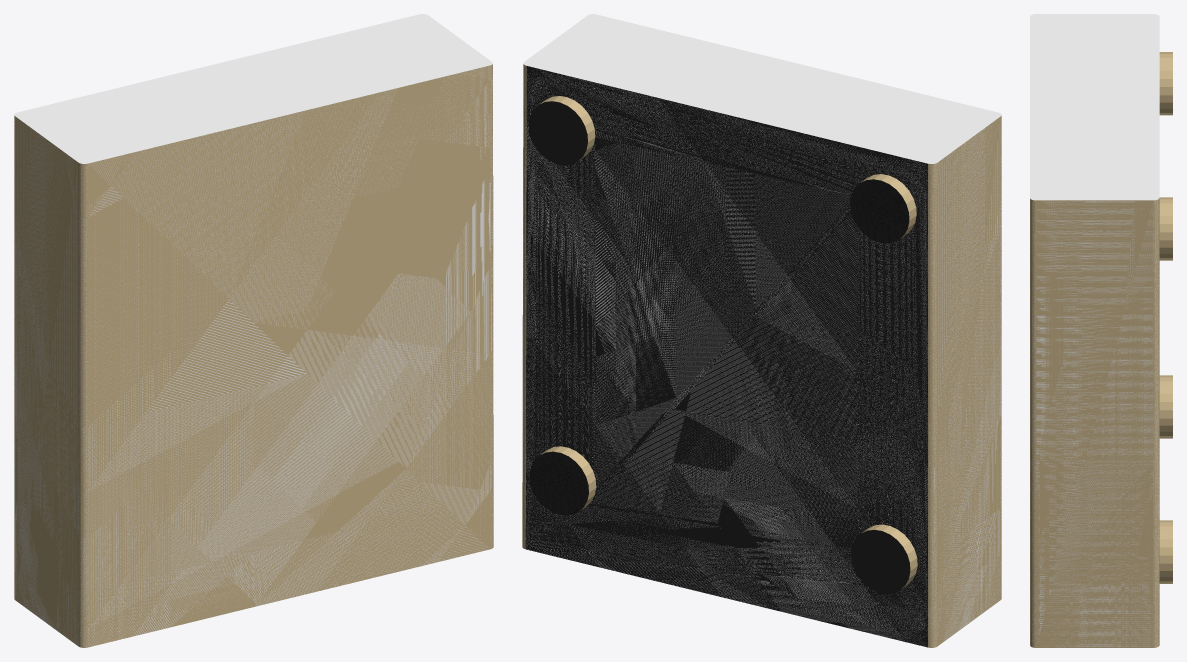
3 views of the same model, side by side, from view 1: azimuth 30°, elevation 25°; view 2: azimuth 150°, elevation 25°; view 3: azimuth 270°, elevation 25° (orthographic). The views are drawn at different scales.
Visible parts, largest first — view 1: denon dvd; view 2: denon dvd; view 3: denon dvd.
Part boxes in pixels (x1,y1,x2,y2): denon dvd: [14, 14, 493, 647]; denon dvd: [522, 14, 1001, 647]; denon dvd: [1030, 14, 1172, 647].
Bounding box in the file's own units: 16.93 × 19.29 × 5.47.
